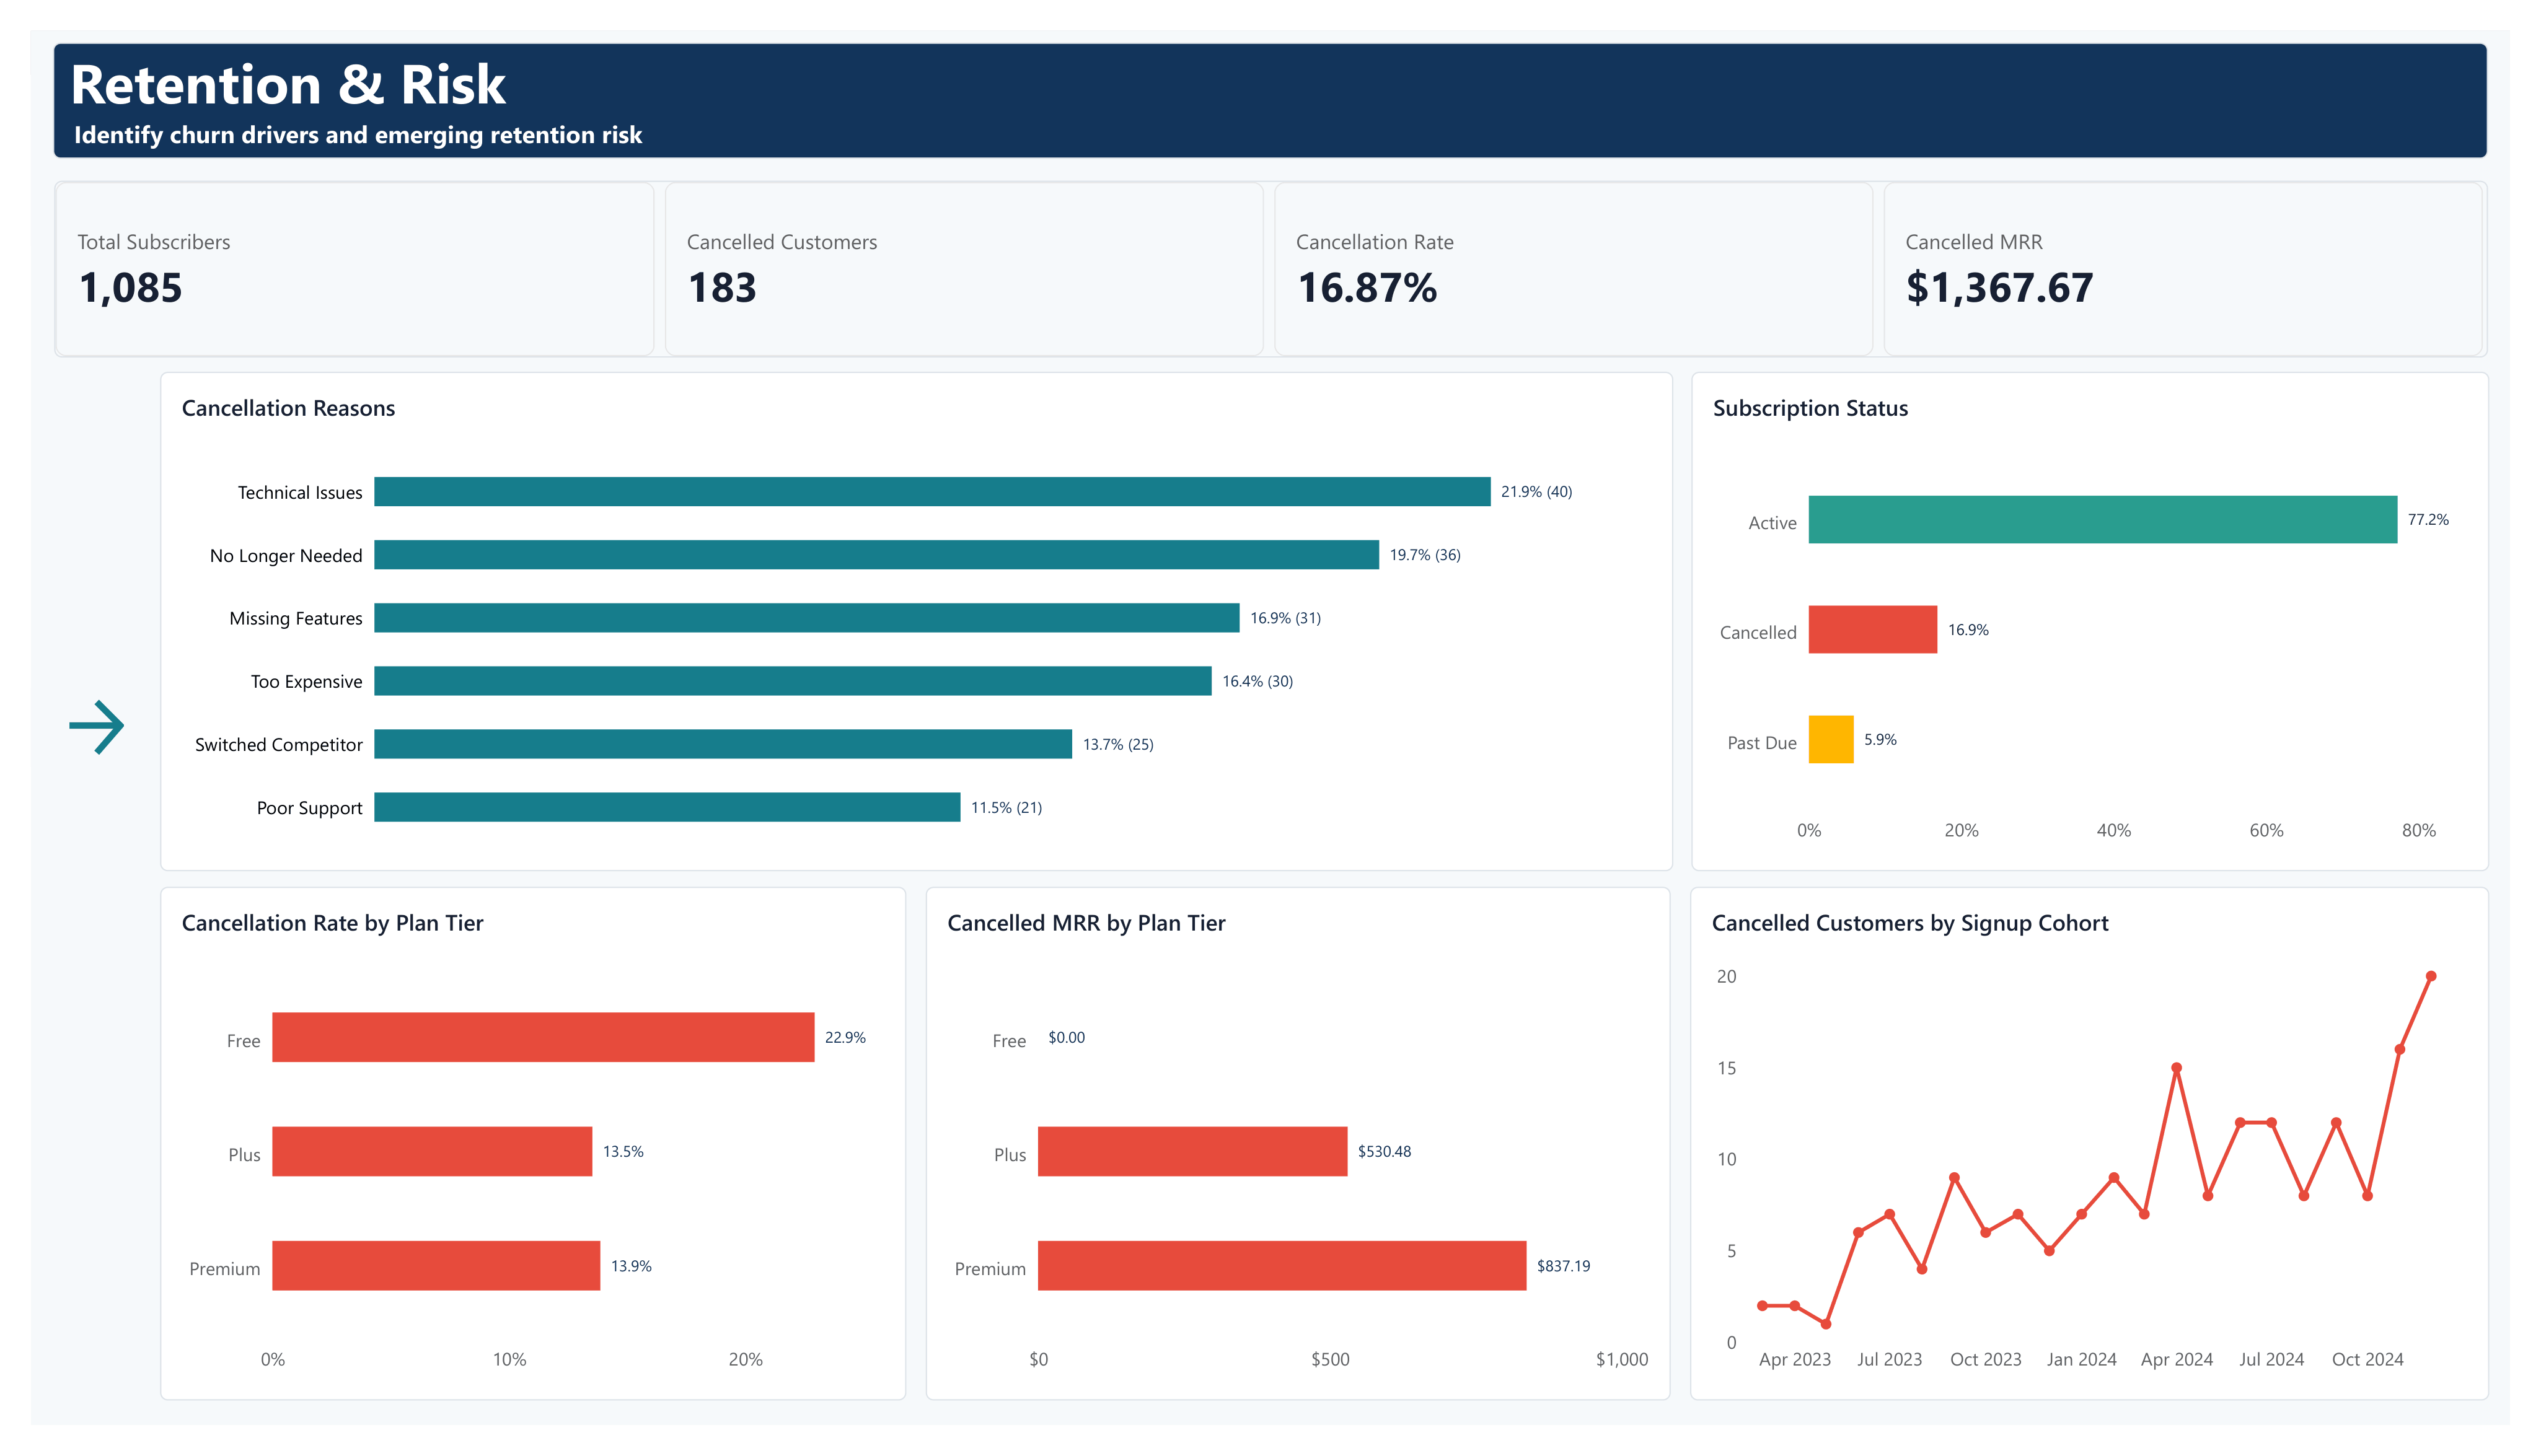

What the dashboard file says about the page in this screenshot:
{"tool":"powerbi","page":{"name":"Retention & Revenue Risk","canvas":[1920,1080],"ordinal":3},"visuals":[{"type":"cardVisual","fields":{"Data":["Measures (2).Total Subscribers","Measures (2).Cancelled Customers","Measures (2).Cancellation Rate","Measures (2).Cancelled MRR"]},"box":[17.7,116.4,1885,137],"z":0},{"type":"barChart","title":"Cancellation Reasons","fields":{"Category":["master.cancellation_reason"],"Y":["Measures (2).Cancellation Reason Pct"]},"box":[100.2,263.8,1171.5,387.5],"z":1000},{"type":"barChart","title":"Cancellation Rate by Plan Tier","fields":{"Category":["master.Plan Tier"],"Y":["Measures (2).Cancellation Rate"]},"box":[100.2,663.1,577.6,397.9],"z":2000},{"type":"actionButton","box":[0,505.4,99.3,68.4],"z":3000},{"type":"textbox","box":[17.4,8.7,1885.5,89.9],"z":5000},{"type":"barChart","title":"Cancelled MRR by Plan Tier","fields":{"Category":["master.Plan Tier"],"Y":["Measures (2).Cancelled MRR"]},"box":[692.6,663.1,577.6,397.9],"z":6000},{"type":"lineChart","title":"Cancelled Customers by Signup Cohort","fields":{"Y":["Measures (2).Cancelled Customers"],"Category":["master.signup_month.Variation.Date Hierarchy.Year","master.signup_month.Variation.Date Hierarchy.Month"]},"box":[1284.9,663.1,618.9,397.9],"z":7000},{"type":"barChart","title":"Subscription Status","fields":{"Category":["master.status"],"Y":["Divide(CountNonNull(master.status), ScopedEval(CountNonNull(master.status), []))"]},"box":[1286.4,264.4,617.1,387],"z":9000}]}

Visuals, with their boxes on the page's 1920x1080 design canvas (x1, y1, x2, y2). These are canvas units, not pixel positions in the 2541x1456 screenshot, which may show the page scaled, cropped or inside an application window:
cardVisual - Measures (2).Total Subscribers x Measures (2).Cancelled Customers: [left=18, top=116, right=1903, bottom=253]
"Cancellation Reasons" barChart: [left=100, top=264, right=1272, bottom=651]
"Cancellation Rate by Plan Tier" barChart: [left=100, top=663, right=678, bottom=1061]
actionButton: [left=0, top=505, right=99, bottom=574]
textbox: [left=17, top=9, right=1903, bottom=99]
"Cancelled MRR by Plan Tier" barChart: [left=693, top=663, right=1270, bottom=1061]
"Cancelled Customers by Signup Cohort" lineChart: [left=1285, top=663, right=1904, bottom=1061]
"Subscription Status" barChart: [left=1286, top=264, right=1904, bottom=651]
